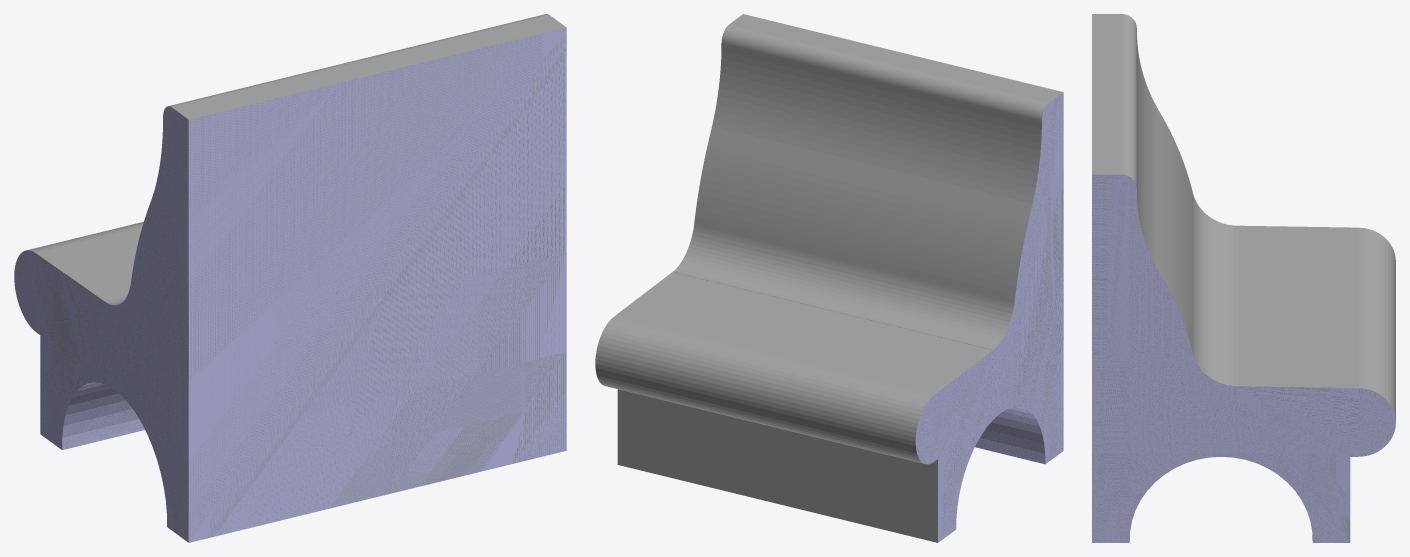
3 renders of one model, left to right at view 1: azimuth 30°, elevation 25°; view 2: azimuth 150°, elevation 25°; view 3: azimuth 270°, elevation 25°, orthographic. The views are drawn at different scales.
Visible parts, largest first — view 1: mesh1_mesh1-geometry; view 2: mesh1_mesh1-geometry; view 3: mesh1_mesh1-geometry.
Boxes of the visible parts, x1=… form: mesh1_mesh1-geometry: x1=14, y1=14, x2=566, y2=542; mesh1_mesh1-geometry: x1=595, y1=14, x2=1063, y2=542; mesh1_mesh1-geometry: x1=1092, y1=14, x2=1395, y2=542.
Size of the model in its own units: 0.5992 by 0.6412 by 0.4794.
